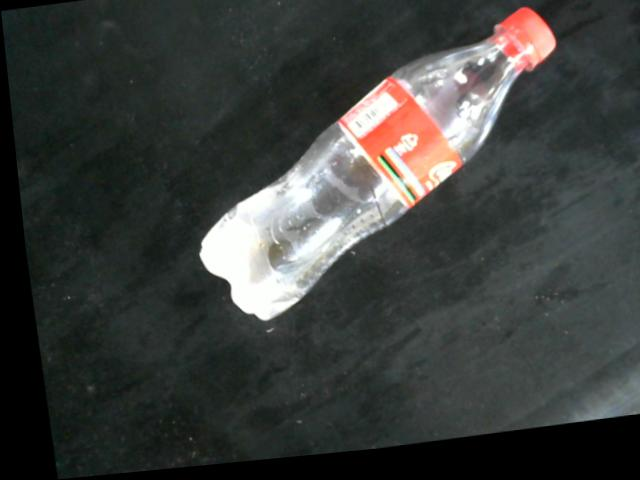bottle: (193, 16, 557, 328)
